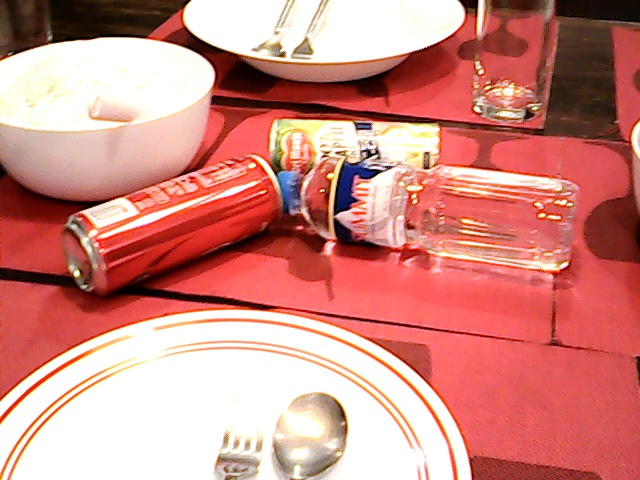Cola: (49, 143, 279, 297)
Pine Juice: (267, 104, 444, 174)
Summit Water: (273, 152, 588, 275)
